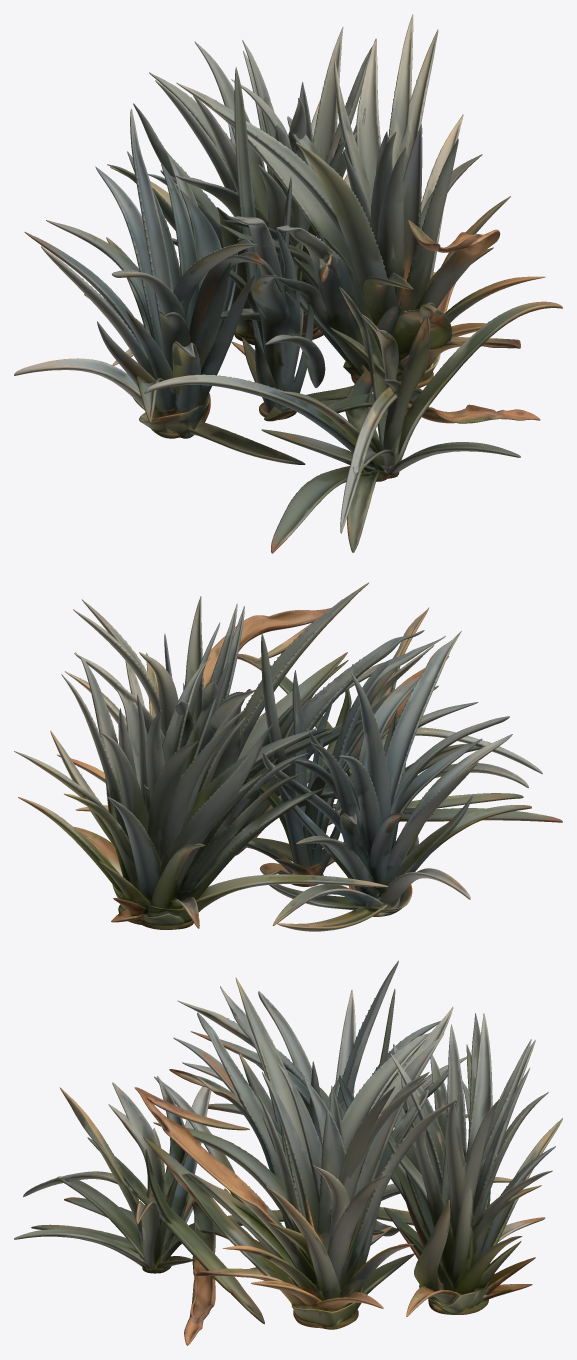
Rendered from zhizhubaimo-v1.glb.
3 renders of one model, top to bottom at view 1: azimuth 30°, elevation 25°; view 2: azimuth 150°, elevation 25°; view 3: azimuth 270°, elevation 25°, orthographic. The views are drawn at different scales.
Visible parts, largest first — view 1: node_0; view 2: node_0; view 3: node_0.
Boxes of the visible parts, x1,y1,x2,y2 form: node_0: [14, 14, 562, 553]; node_0: [14, 582, 562, 931]; node_0: [14, 960, 562, 1345].
Size of the model in its own units: 0.8341 by 0.581 by 0.9906.
1 material, 1 textured.
